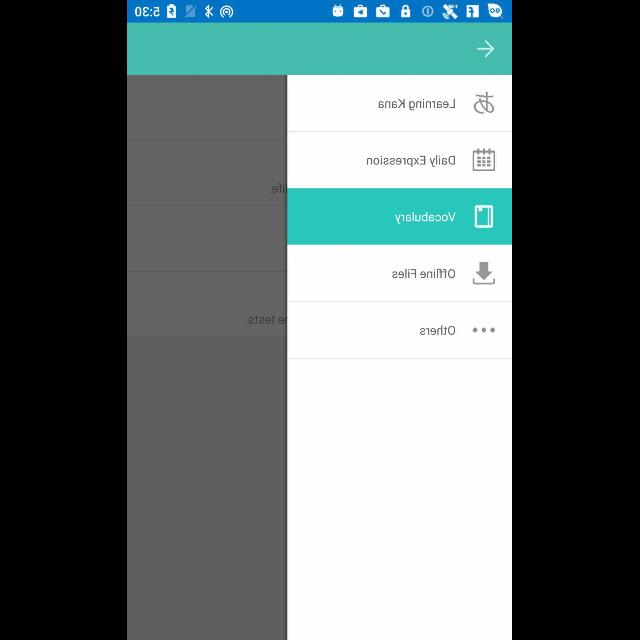icon: (474, 92, 496, 116), (474, 148, 496, 172), (474, 262, 496, 286), (475, 206, 495, 228), (477, 40, 495, 59), (474, 327, 496, 333)
panel: (288, 75, 512, 640)
text: (368, 154, 457, 168), (378, 98, 456, 112), (395, 211, 457, 225), (392, 267, 456, 279), (419, 324, 456, 336)
toolbar: (128, 23, 512, 75)
uppertaskbar: (128, 1, 512, 23)
